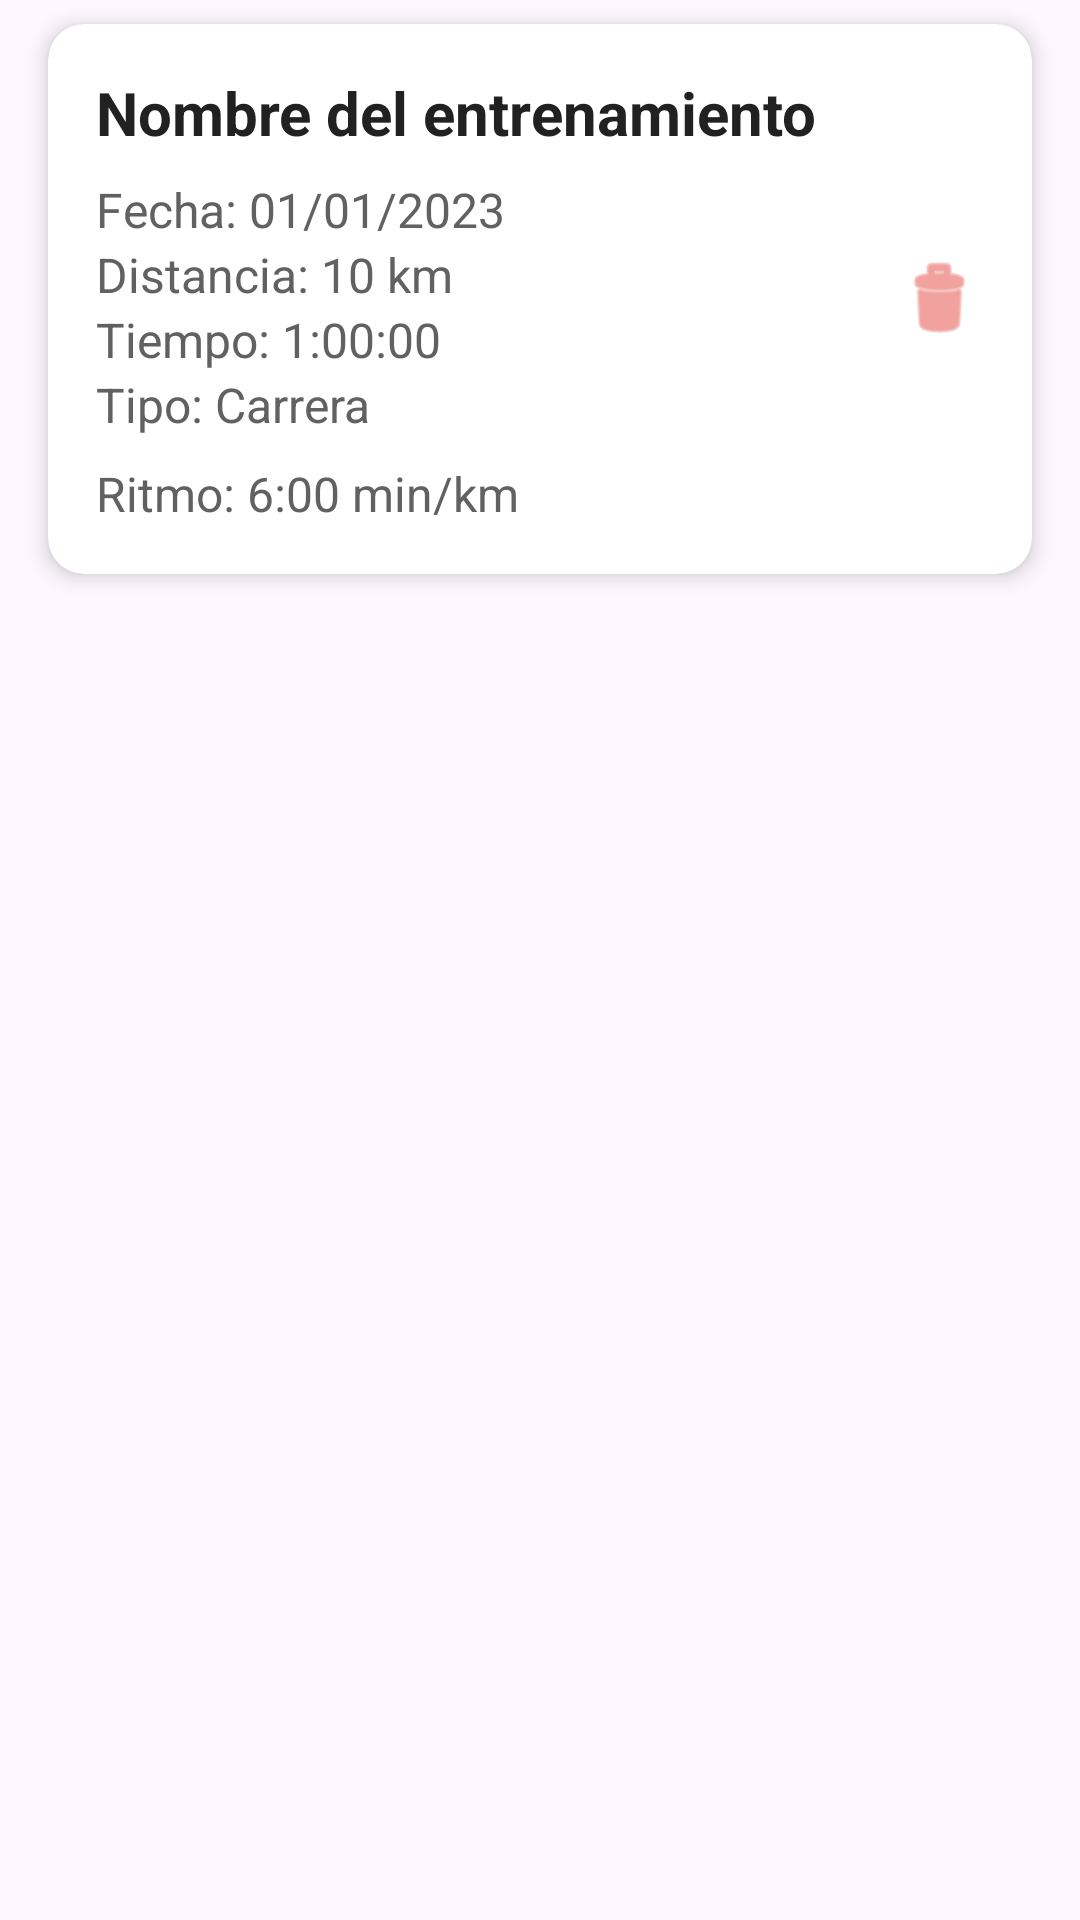

Icons on this 1080 × 1920 Android screen, each with its box as [left=x1, top=y1, right=x2, bottom=y2]:
Eliminar: [left=914, top=263, right=965, bottom=333]
